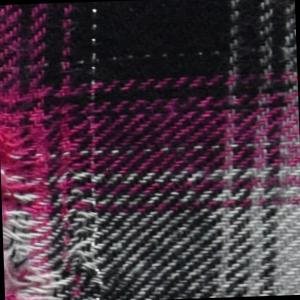Damage: (1, 122, 104, 300)
